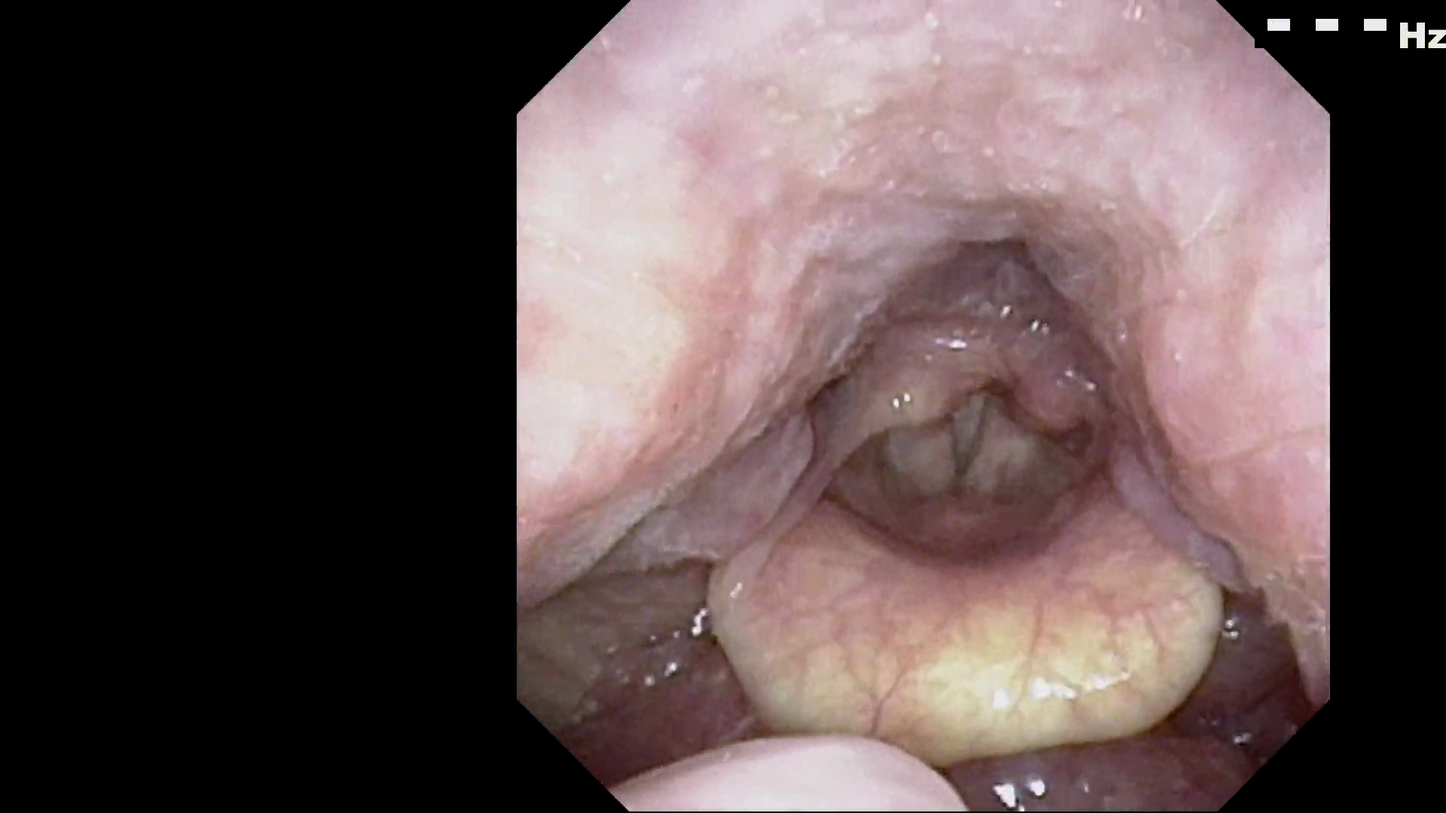epiglottis: (660, 484, 1276, 755)
trachea: (881, 352, 1047, 540)
